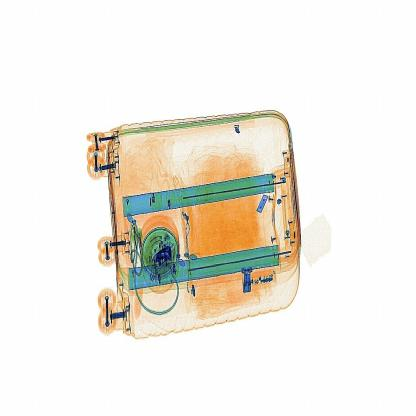knife: (150, 244, 173, 269)
